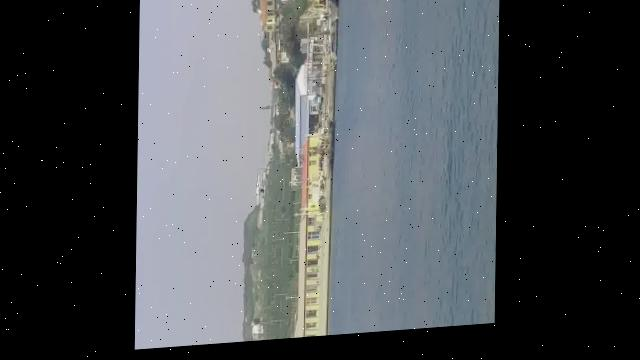drone: (253, 177, 266, 208)
